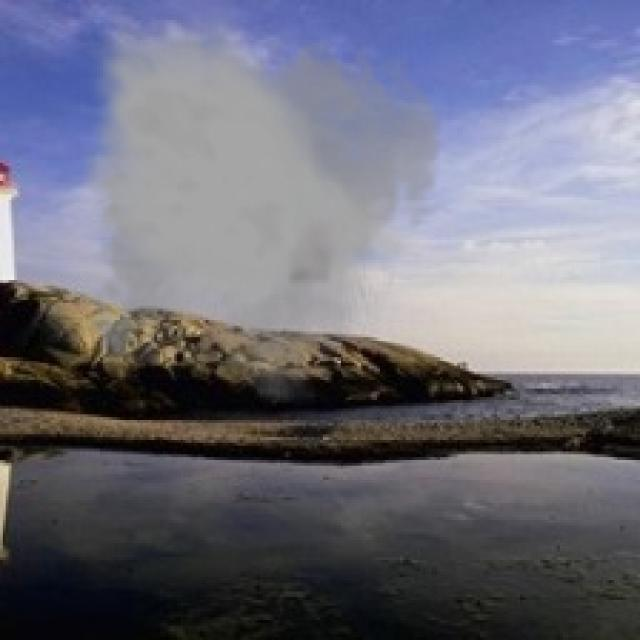Smoke: (77, 6, 446, 403)
